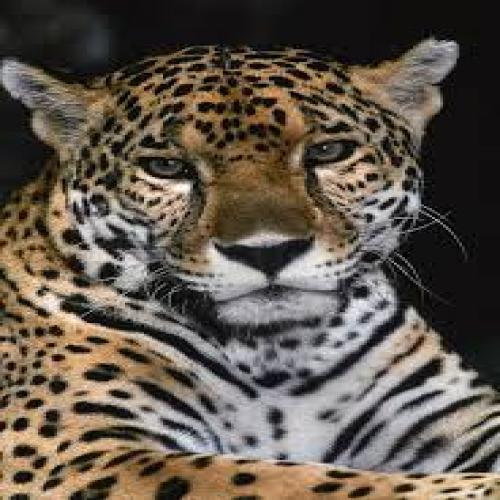jaguar_not-endangered: (37, 47, 444, 462)
